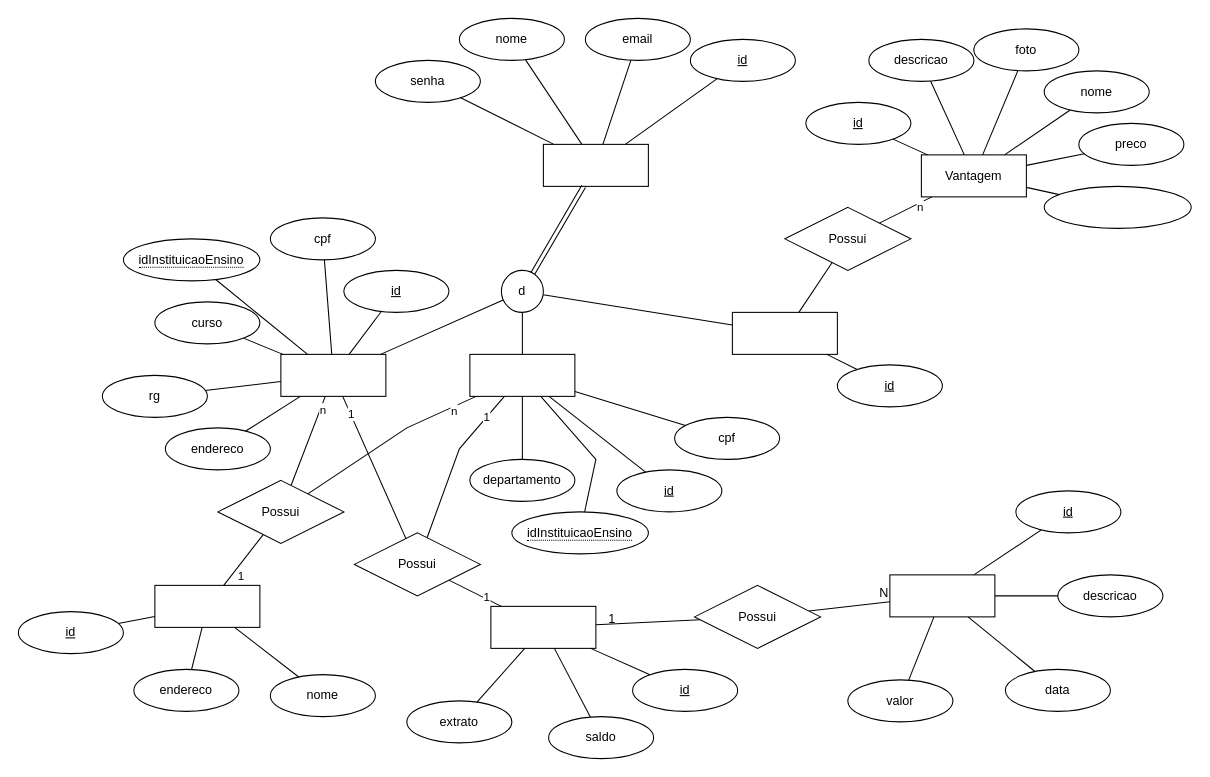
Some shapes in this 1210 by 777 pixel diagram are drawn without their labels. Here are the shapes that lost their labels. From the top down, the centre of each, then its label:
At (x=595, y=164): "Usuário".
At (x=1117, y=206): "idEmpresaParceira".
At (x=784, y=332): "EmpresaParceira".
At (x=333, y=374): "Aluno".
At (x=522, y=374): "Professor".
At (x=207, y=605): "InstituicaoEnsino".
At (x=942, y=595): "Operacao".
At (x=543, y=626): "Carteira".
